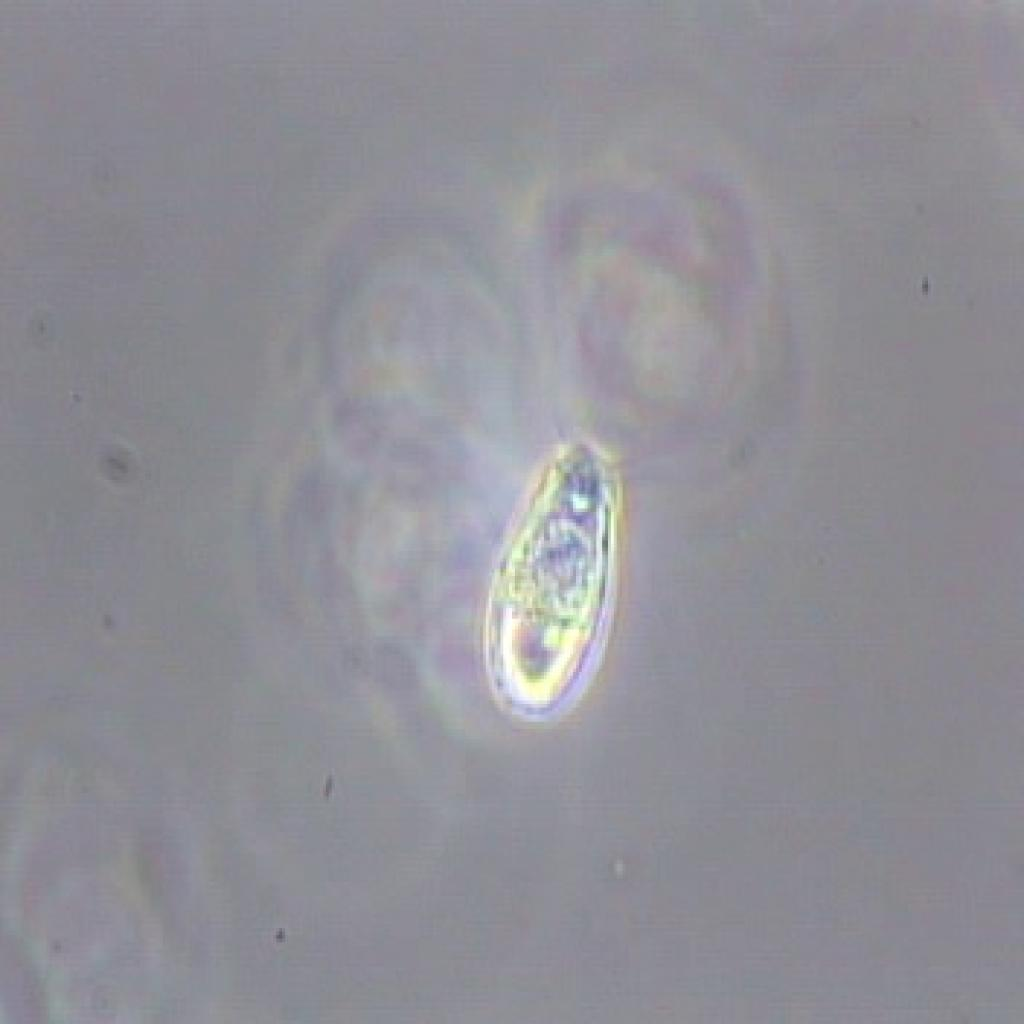Euglypha: (455, 421, 639, 720)
